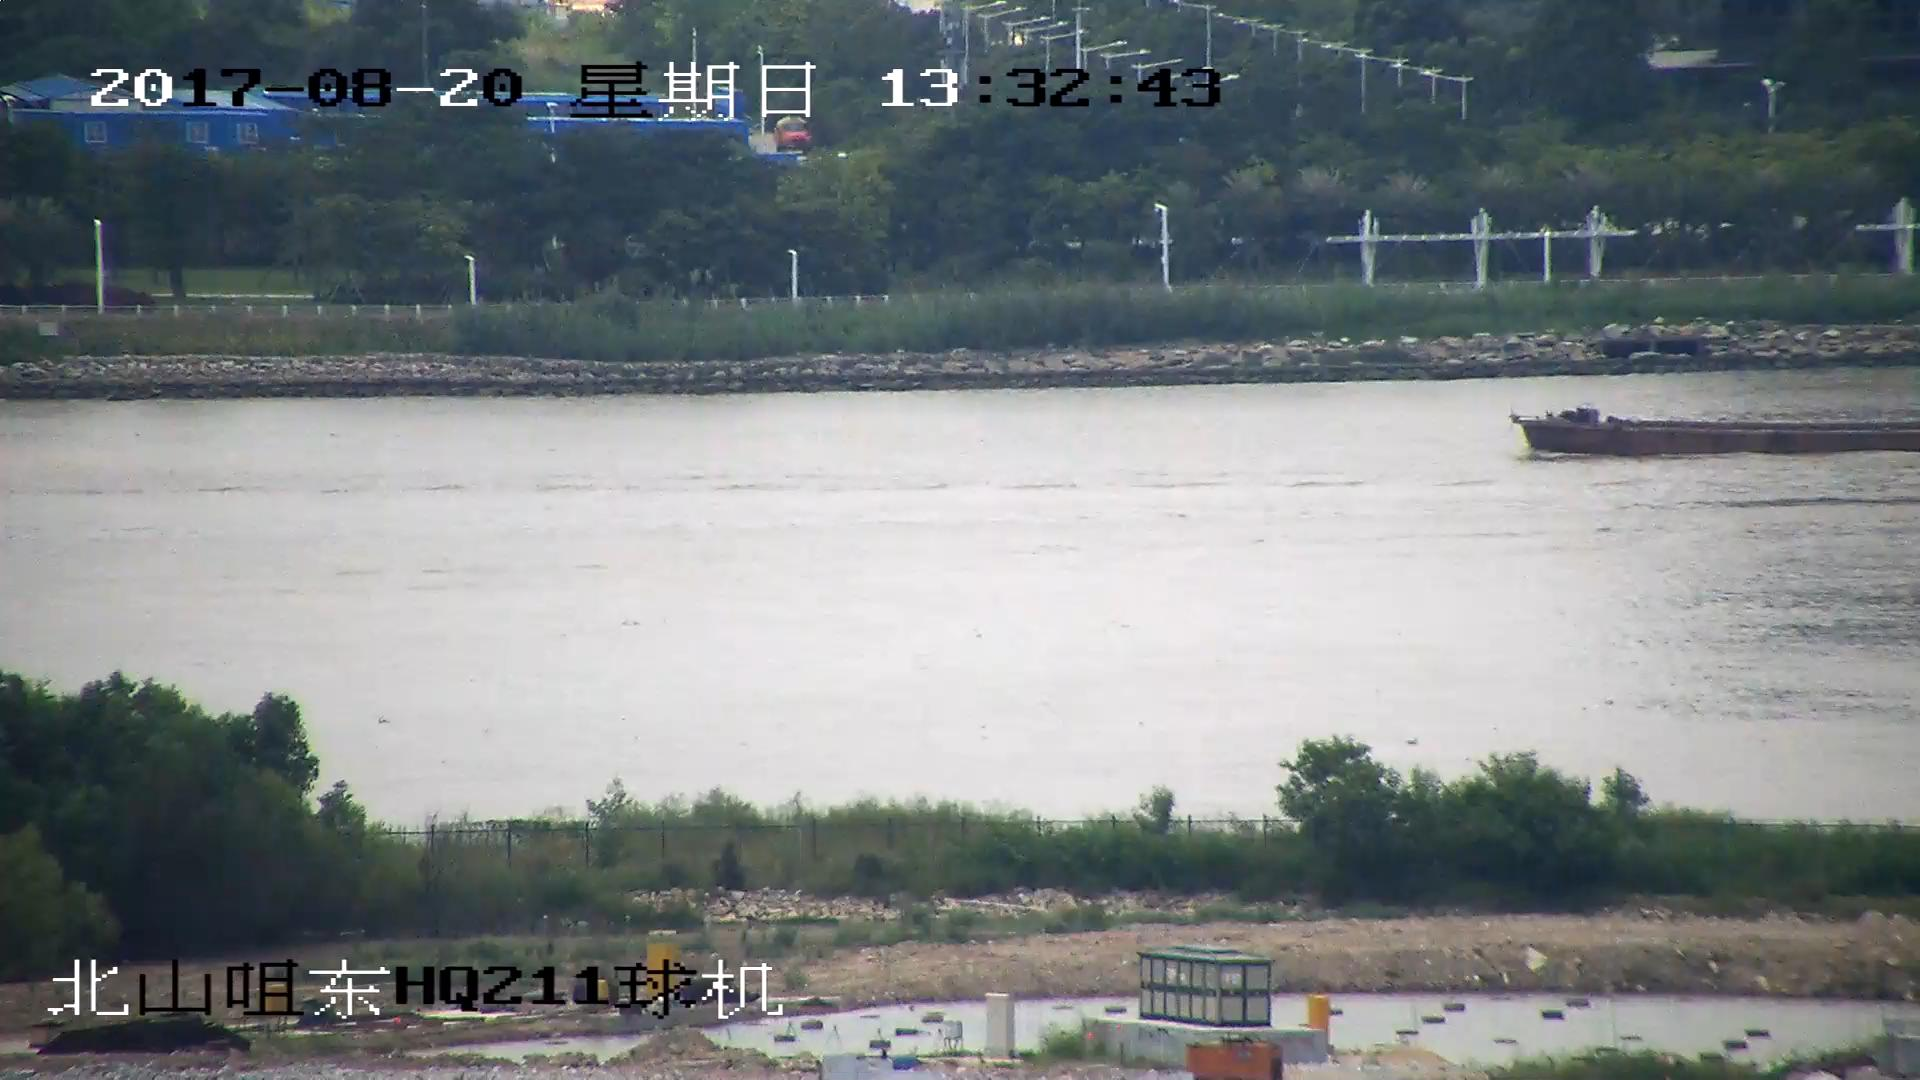bulk cargo carrier: (1516, 403, 1920, 454)
